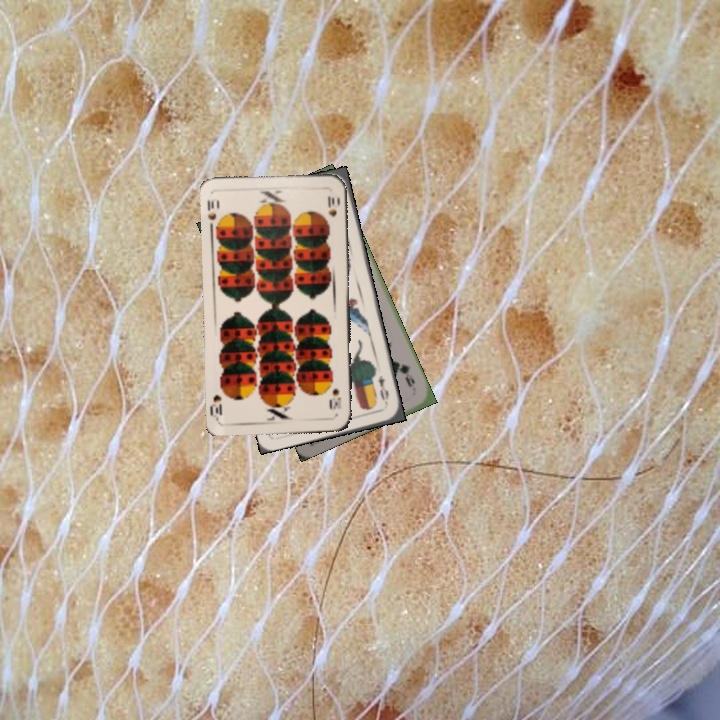EO: (374, 372, 391, 408)
G9: (393, 358, 417, 390)
S10: (328, 384, 344, 412), (203, 196, 219, 222)
